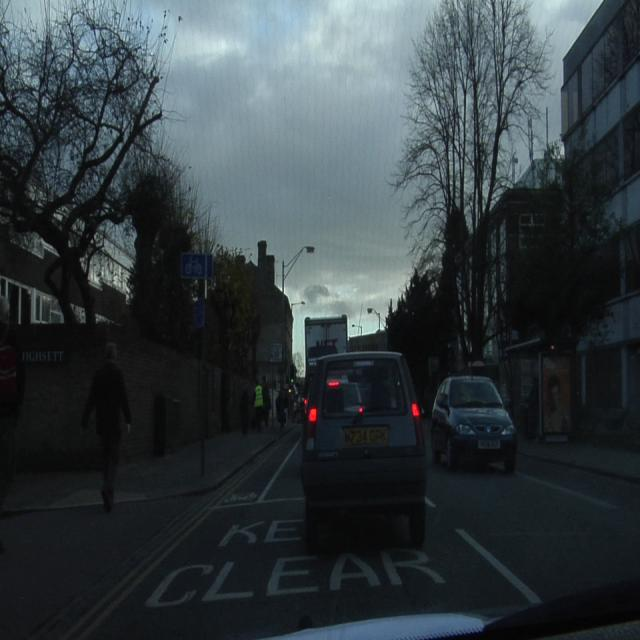Building: (0, 225, 201, 468), (560, 0, 639, 443), (250, 240, 294, 391)
Car: (300, 353, 428, 550), (432, 377, 515, 471)
Road: (3, 451, 639, 635)
Tree: (397, 0, 575, 368), (0, 3, 166, 323), (124, 148, 202, 349)
person: (82, 343, 131, 511)
